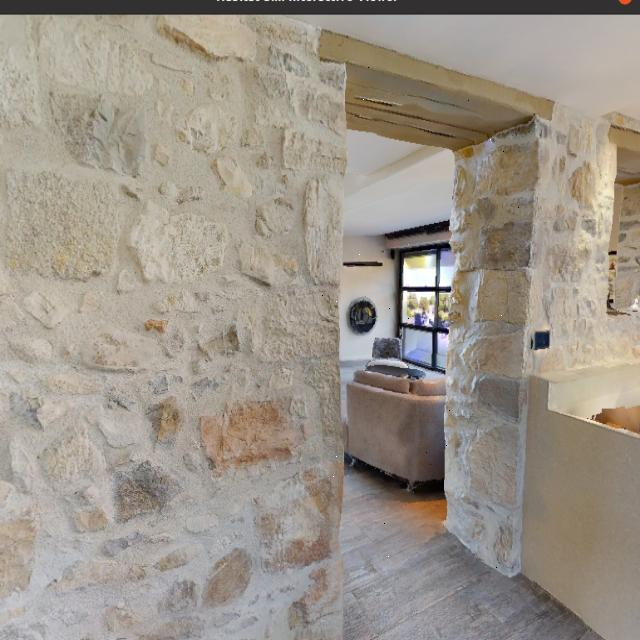door-frame: (317, 42, 537, 600)
